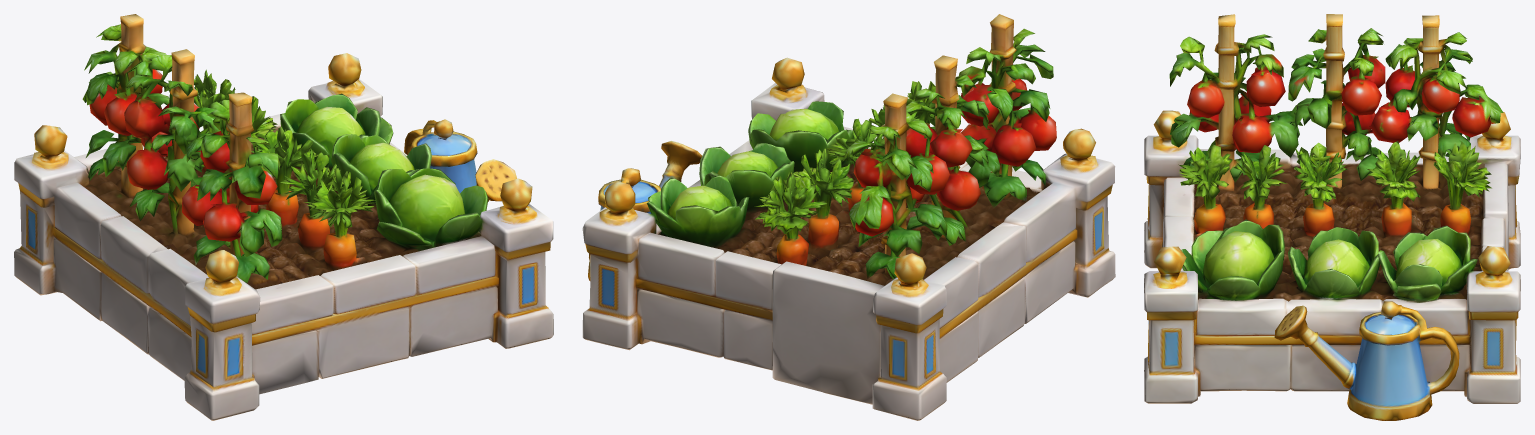
File: HaloReasonHQ_VegGarden_HD_src.glb
The picture shows the model from 3 angles, left to right: view 1: azimuth 30°, elevation 25°; view 2: azimuth 150°, elevation 25°; view 3: azimuth 270°, elevation 25°; orthographic projection. The views are drawn at different scales.
Visible parts, largest first — view 1: tripo_node_08ff06c4-23ac-481d-a7d5-20c68a2fcb4e; view 2: tripo_node_08ff06c4-23ac-481d-a7d5-20c68a2fcb4e; view 3: tripo_node_08ff06c4-23ac-481d-a7d5-20c68a2fcb4e.
Part boxes in pixels (box(x1,y1,x2,y2)): tripo_node_08ff06c4-23ac-481d-a7d5-20c68a2fcb4e: box(14, 14, 553, 420); tripo_node_08ff06c4-23ac-481d-a7d5-20c68a2fcb4e: box(582, 14, 1115, 420); tripo_node_08ff06c4-23ac-481d-a7d5-20c68a2fcb4e: box(1144, 14, 1520, 420).
Bounding box in the file's own units: 0.9645 × 0.6418 × 0.8323.
1 material, 1 textured.
